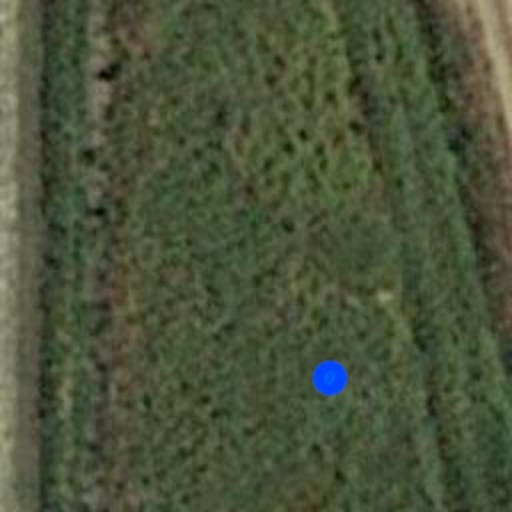circle: (310, 358, 350, 398)
